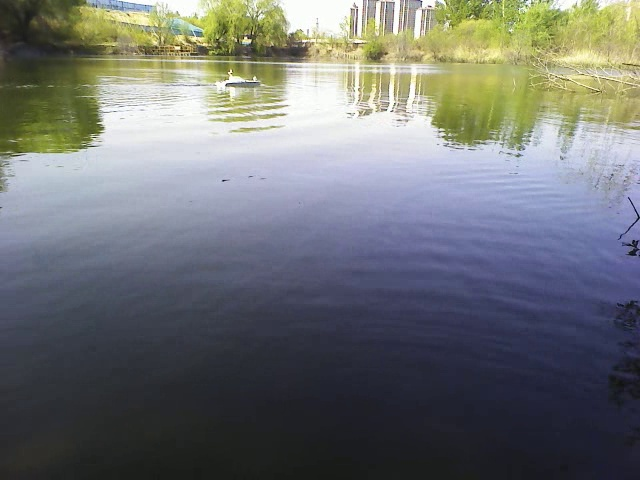boat: (216, 69, 263, 89)
